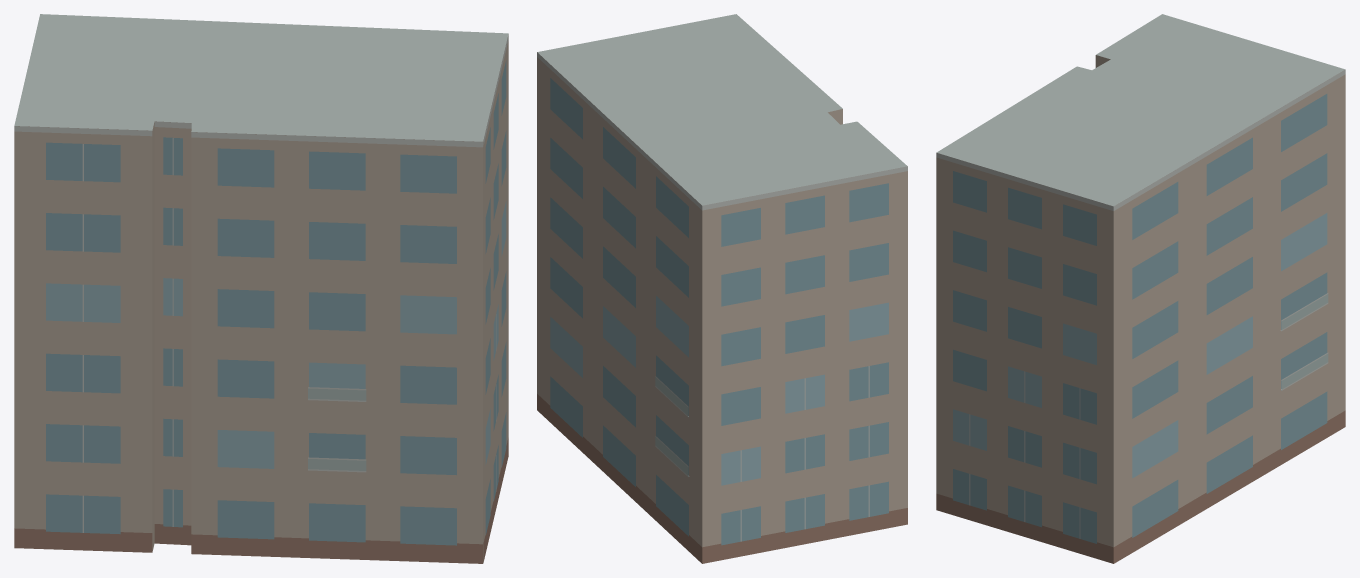
Rendered from survey-upis-32551065.glb.
The picture shows the model from 3 angles, left to right: view 1: azimuth 30°, elevation 25°; view 2: azimuth 150°, elevation 25°; view 3: azimuth 270°, elevation 25°; orthographic projection. The views are drawn at different scales.
Visible parts, largest first — view 1: survey-upis-32551065.tmp; view 2: survey-upis-32551065.tmp; view 3: survey-upis-32551065.tmp.
Boxes of the visible parts, left/top/right/bottom form: survey-upis-32551065.tmp: left=14, top=14, right=508, bottom=563; survey-upis-32551065.tmp: left=537, top=14, right=907, bottom=563; survey-upis-32551065.tmp: left=936, top=14, right=1345, bottom=563.
Bounding box in the file's own units: 21.13 × 18.3 × 19.
